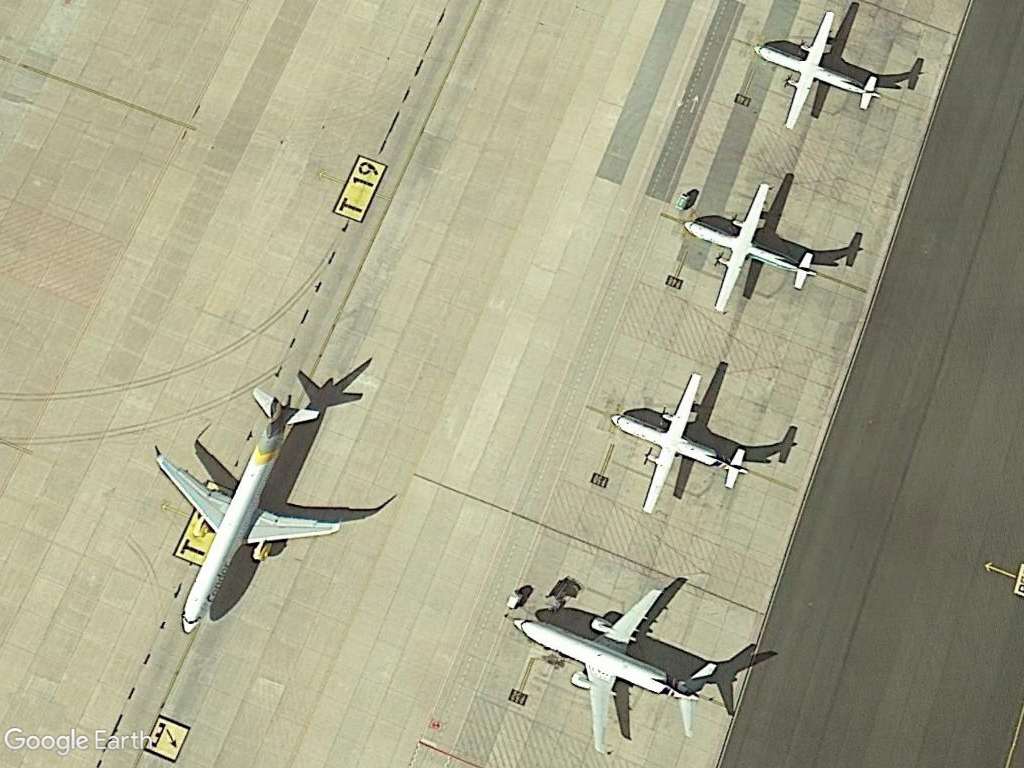airliner: (142, 370, 354, 644), (513, 578, 728, 753)
propeller: (603, 363, 755, 517), (675, 178, 818, 313), (750, 9, 883, 133)
